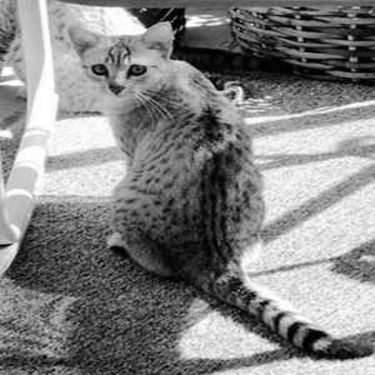cat: (61, 17, 365, 360)
